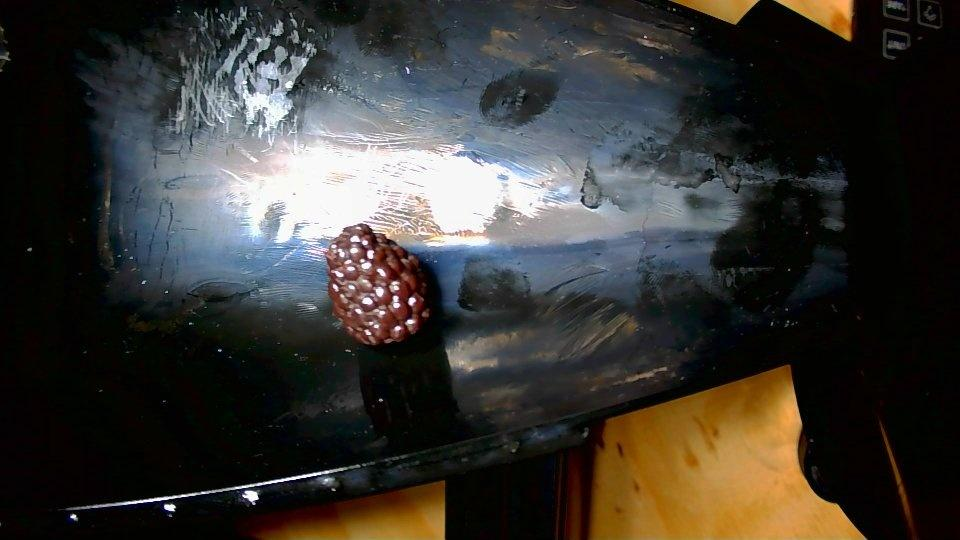berry: (326, 223, 430, 345)
